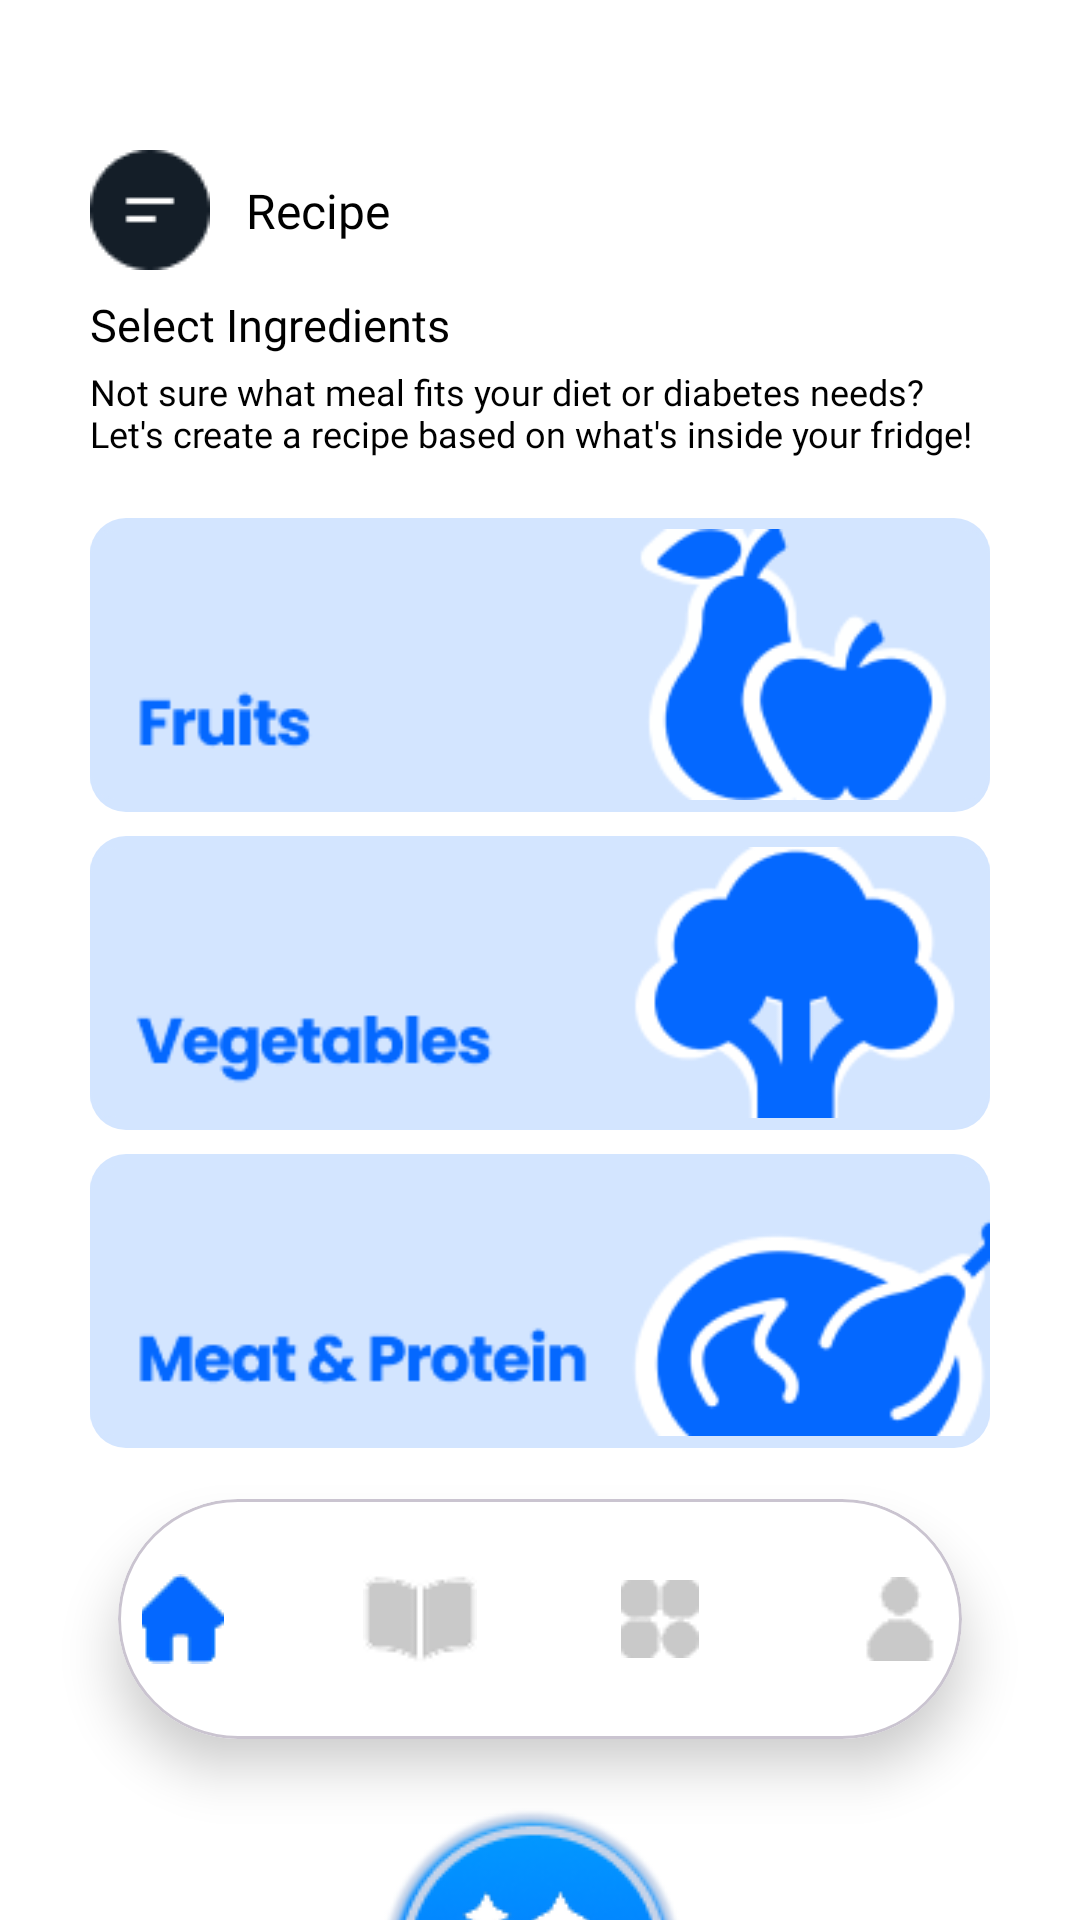

Screen size 1080w x 1920h. Icon name, then its center in pixels as [x,y]:
menu: [150,210]
Recipe: [420,1618]
